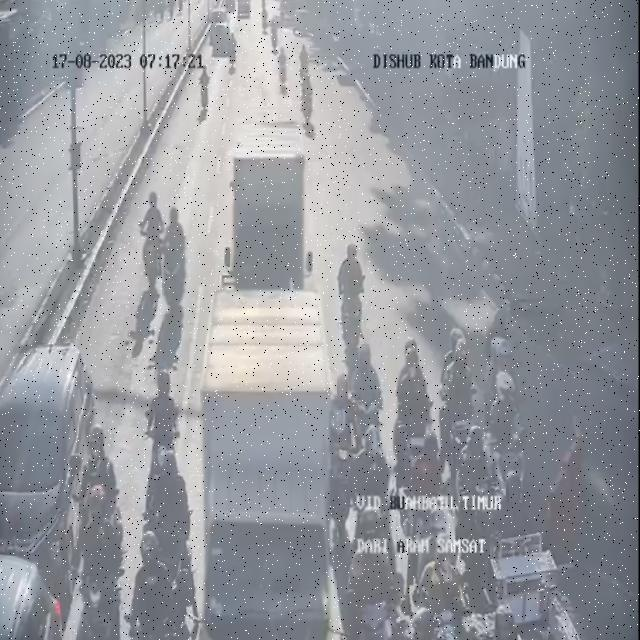cars: (0, 338, 102, 593), (488, 477, 558, 630), (0, 556, 60, 640)
motorcycle: (350, 497, 400, 638), (80, 415, 126, 557), (77, 486, 118, 640), (145, 446, 193, 570), (485, 367, 527, 505), (408, 427, 451, 560), (351, 422, 392, 554), (445, 323, 480, 464), (425, 544, 471, 639), (336, 241, 373, 358), (393, 360, 432, 470), (350, 336, 384, 458), (132, 187, 166, 298), (486, 324, 519, 433), (162, 200, 188, 324), (295, 74, 319, 140), (419, 610, 464, 640), (197, 56, 215, 122), (271, 45, 291, 103), (296, 36, 311, 95), (222, 31, 240, 74), (269, 15, 280, 58)
truck: (200, 283, 337, 638), (230, 118, 308, 299)
